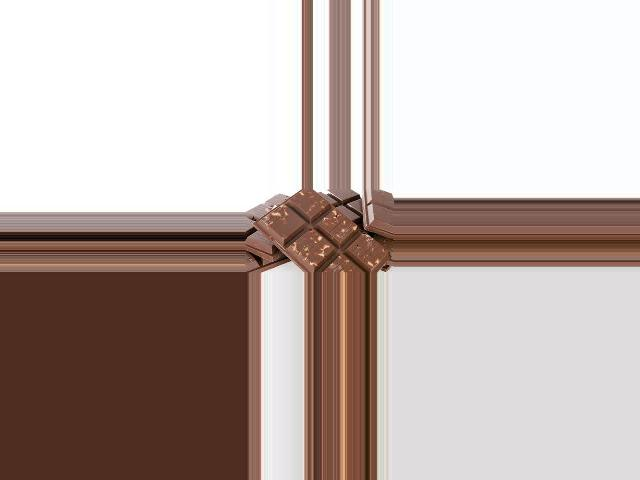chocolate: (263, 190, 389, 273)
